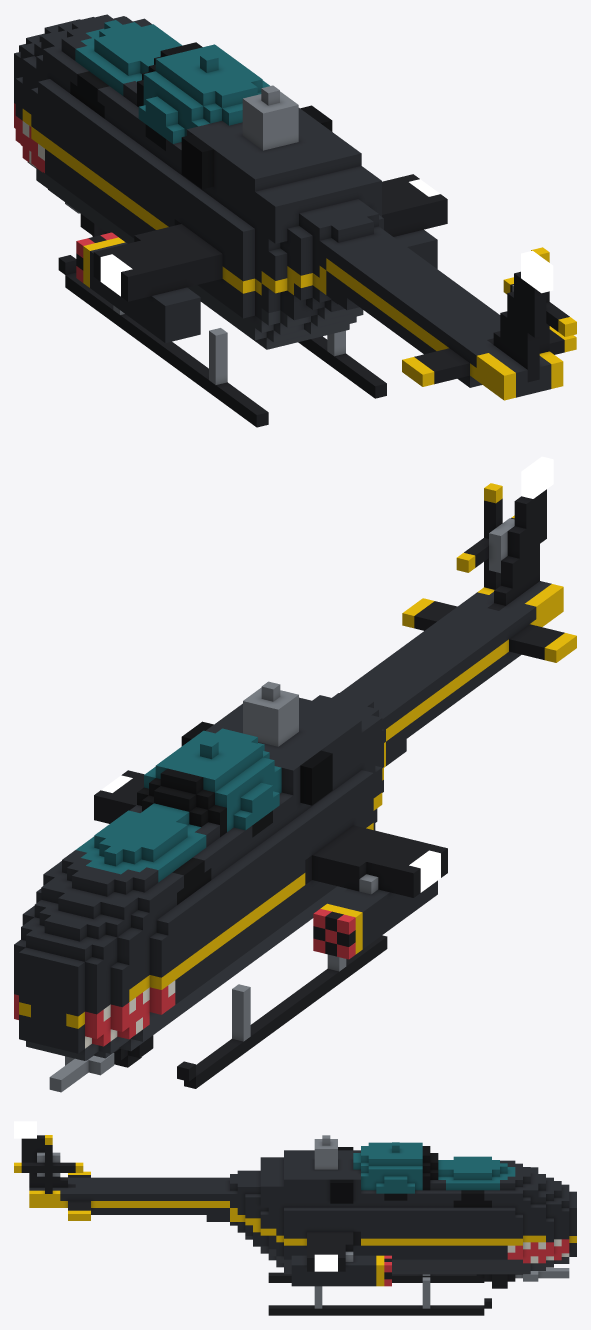
Rendered from chopper.glb.
The picture shows the model from 3 angles, top to bottom: view 1: azimuth 30°, elevation 25°; view 2: azimuth 150°, elevation 25°; view 3: azimuth 270°, elevation 25°; orthographic projection. The views are drawn at different scales.
Parts seen in each view (by area): view 1: chopper_body; view 2: chopper_body; view 3: chopper_body.
Boxes of the visible parts, x1,y1,x2,y2 form: chopper_body: [14, 14, 576, 427]; chopper_body: [14, 456, 576, 1092]; chopper_body: [14, 1121, 576, 1315].
Size of the model in its own units: 3.38 by 3.12 by 9.12.
Materials: 1 (1 with a texture image).
